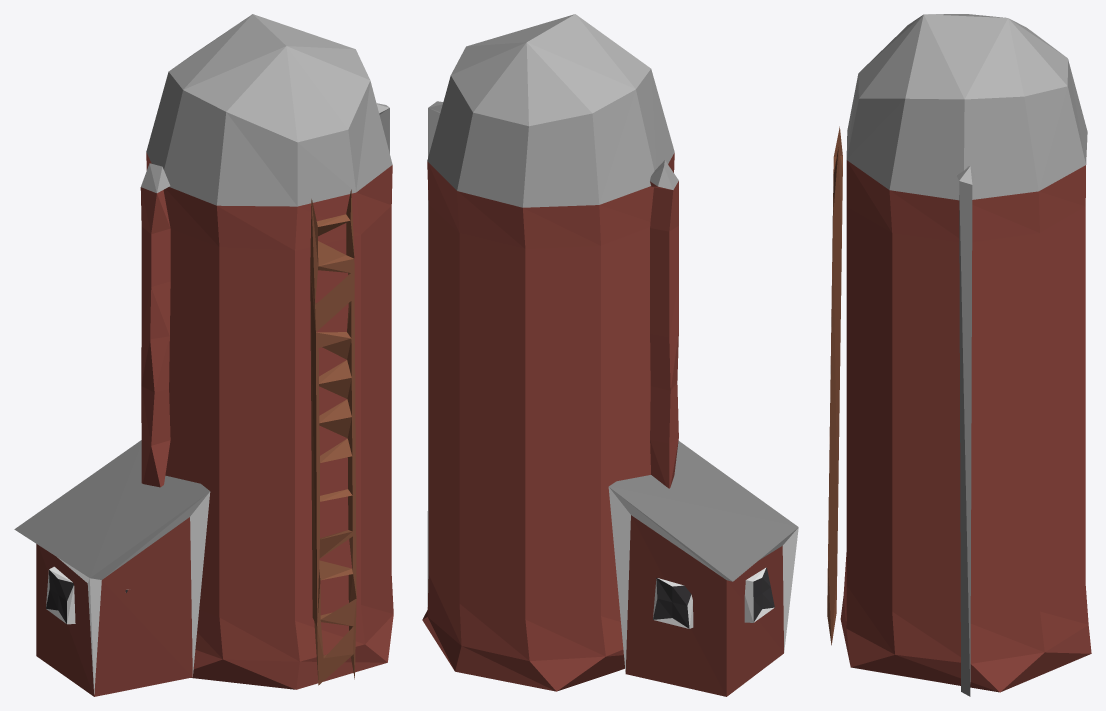
Rendered from Silo_House.lod2.glb.
The picture shows the model from 3 angles, left to right: view 1: azimuth 30°, elevation 25°; view 2: azimuth 150°, elevation 25°; view 3: azimuth 270°, elevation 25°; orthographic projection. The views are drawn at different scales.
Visible parts, largest first — view 1: Silo_House; view 2: Silo_House; view 3: Silo_House.
Part boxes in pixels (left/top/right/bottom): Silo_House: left=14, top=14, right=393, bottom=696; Silo_House: left=422, top=14, right=798, bottom=696; Silo_House: left=827, top=14, right=1091, bottom=696.
Size of the model in its own units: 5.32 by 9.08 by 3.51.
